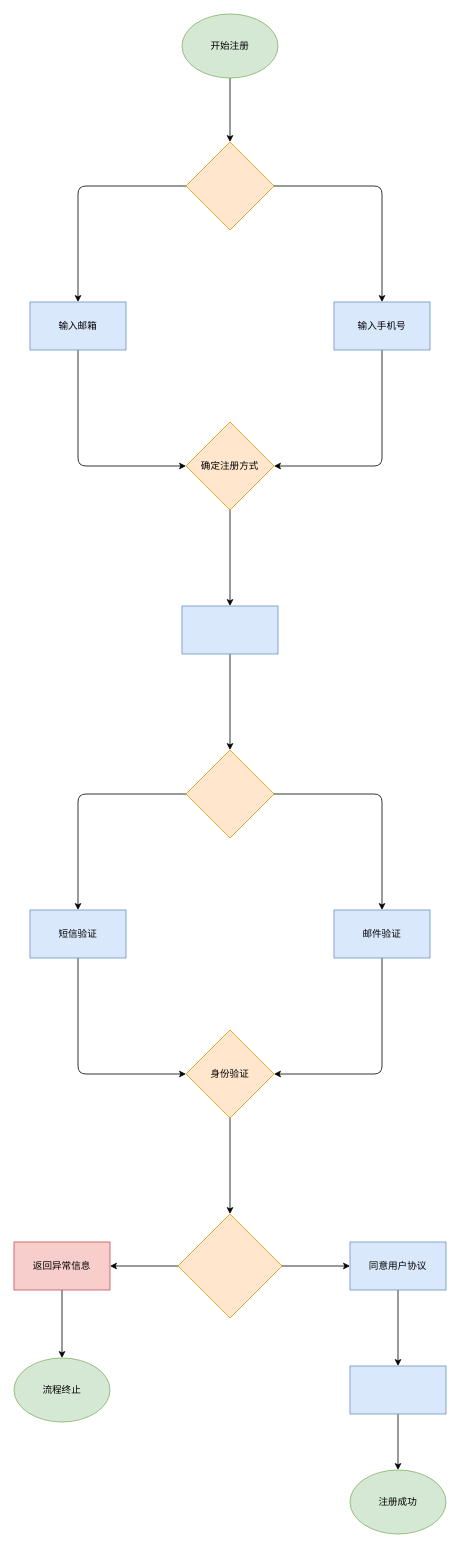
This 460x1548 diagram has some shape labels left out. The shapes that lost their labels are listed below. From the top down, each one's centre as x and y in pixels, then its label:
At [229,185]: "选择注册方式".
At [229,629]: "表单输入 1. 密码、确认密码 2. 图形验证码".
At [229,793]: "身份验证方式".
At [229,1265]: "表单信息校验 1. 格式合法 2. 存在性 3. 验证码".
At [397,1389]: "提交注册".
